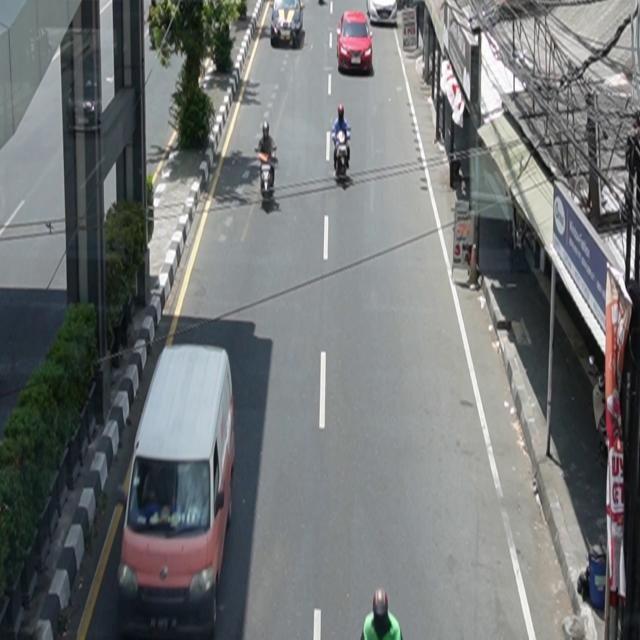bus: (118, 343, 237, 638)
car: (337, 10, 374, 74), (271, 1, 306, 49), (366, 1, 398, 26)
